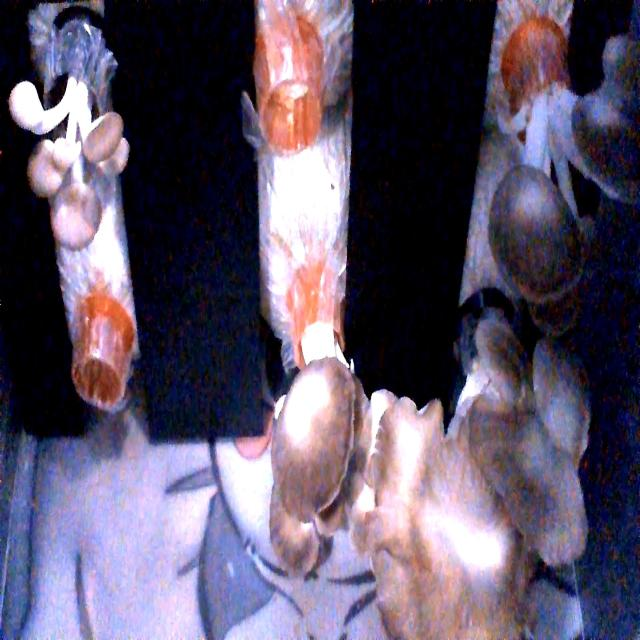big: (363, 376, 608, 640), (479, 41, 640, 340), (258, 354, 436, 614)
nfound: (248, 49, 329, 174), (59, 313, 152, 418)
small: (8, 77, 134, 254)
